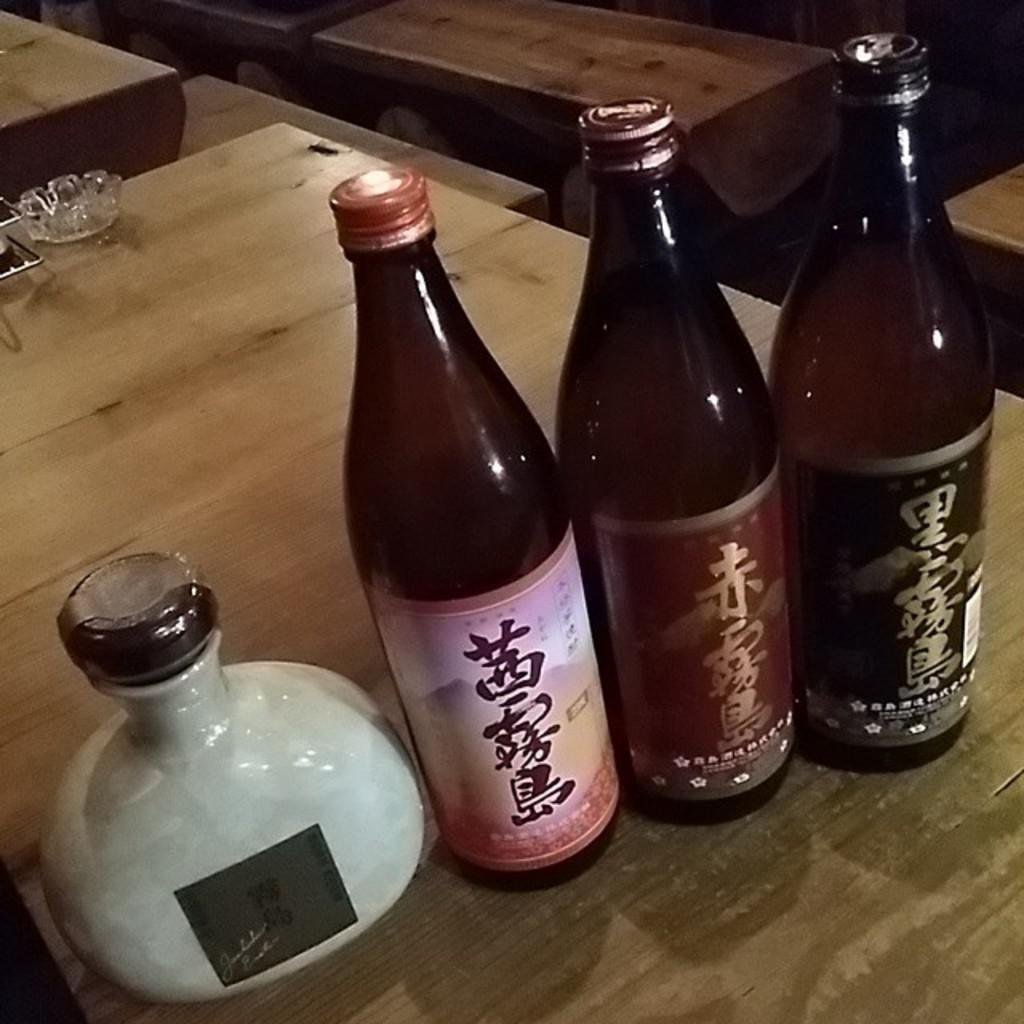bottle-glass: (330, 162, 622, 882), (555, 91, 798, 823), (760, 30, 990, 769)
